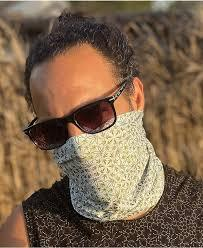scarf-kerchief: (51, 105, 171, 221)
sunglasses: (21, 92, 119, 154)
